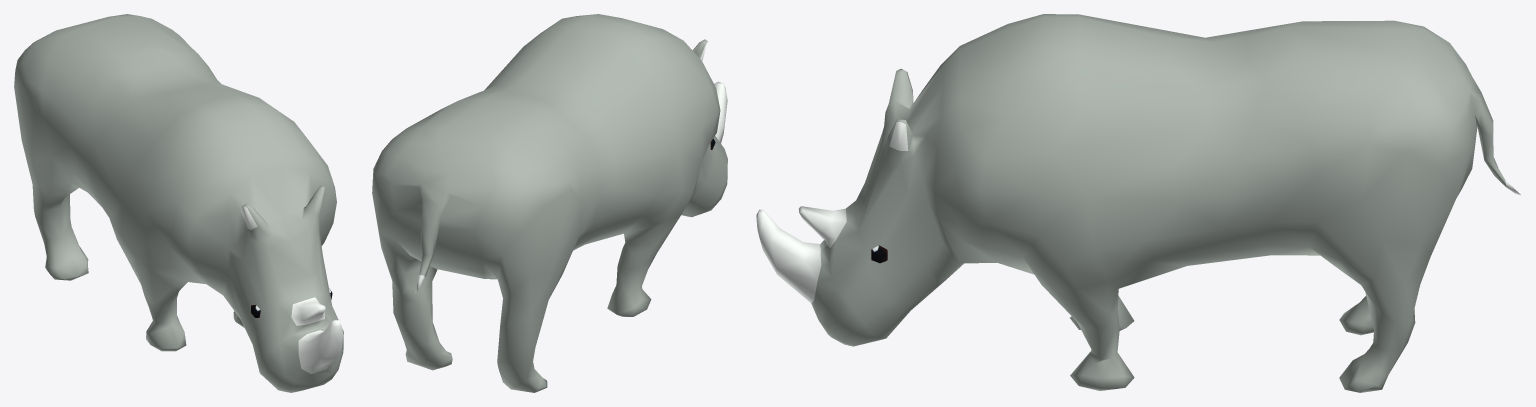
Rendered from Rhino.glb.
3 views of the same model, side by side, from view 1: azimuth 30°, elevation 25°; view 2: azimuth 150°, elevation 25°; view 3: azimuth 270°, elevation 25° (orthographic). The views are drawn at different scales.
Visible parts, largest first — view 1: Rhino; view 2: Rhino; view 3: Rhino.
Boxes of the visible parts, <box> form: Rhino: <box>14,14,343,392</box>; Rhino: <box>372,14,727,392</box>; Rhino: <box>756,14,1520,392</box>.
Size of what is drawn, in the model's own units: 1.2 by 1.54 by 3.26.
Materials: 1 (1 with a texture image).
